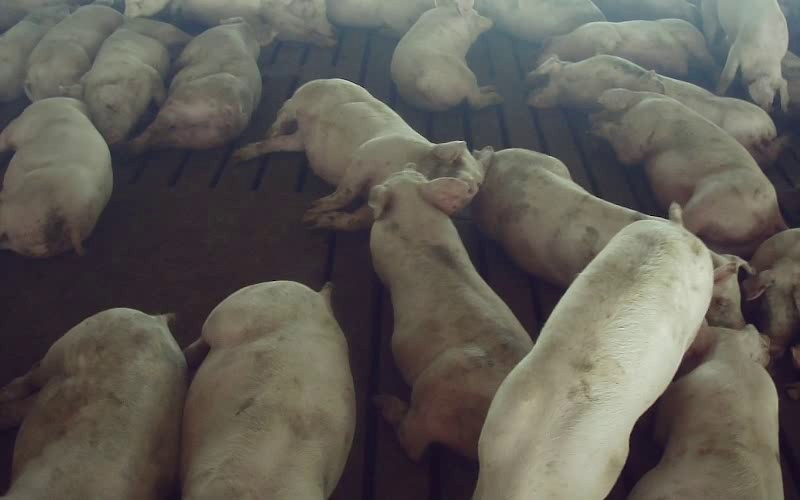pig: (475, 221, 712, 499), (369, 170, 532, 458), (181, 281, 354, 499), (235, 79, 482, 229), (0, 308, 187, 499), (591, 88, 785, 257), (528, 55, 779, 165), (629, 325, 782, 499), (474, 148, 650, 285), (130, 18, 275, 151), (0, 97, 112, 256), (81, 18, 190, 143), (539, 19, 713, 77), (24, 5, 122, 101), (703, 0, 788, 110), (0, 5, 69, 101)
